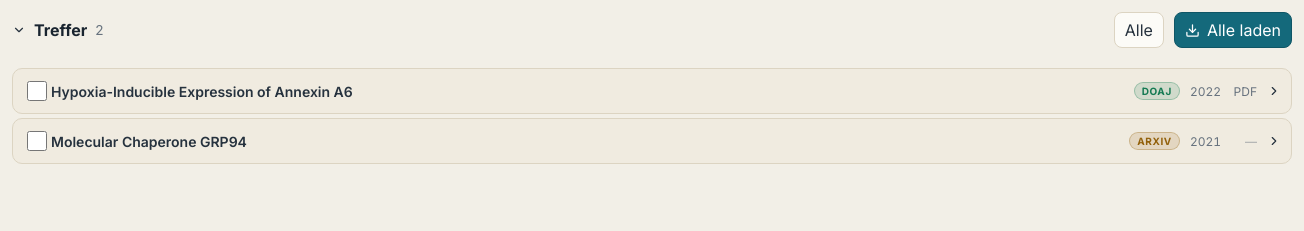
Test: PaperPickList › shows one row per paper with title and source badge, abstract hidden until expanded
Expected: the text "DOAJ" is shown, [1134,82,1180,100]
Expected: the text "arXiv" is shown, [1129,132,1180,150]
Click the text "Hypoxia-Inducible Expression of Annexin A6" at (202, 91), box [51,82,353,100]
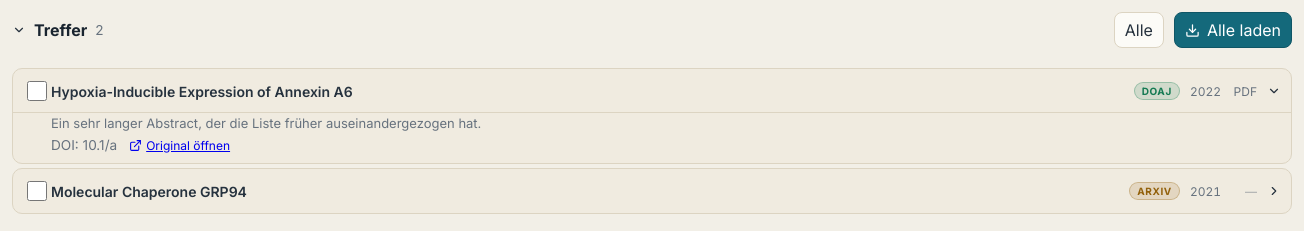
Expected: the text "auseinandergezogen" is shown, [51,115,481,131]
